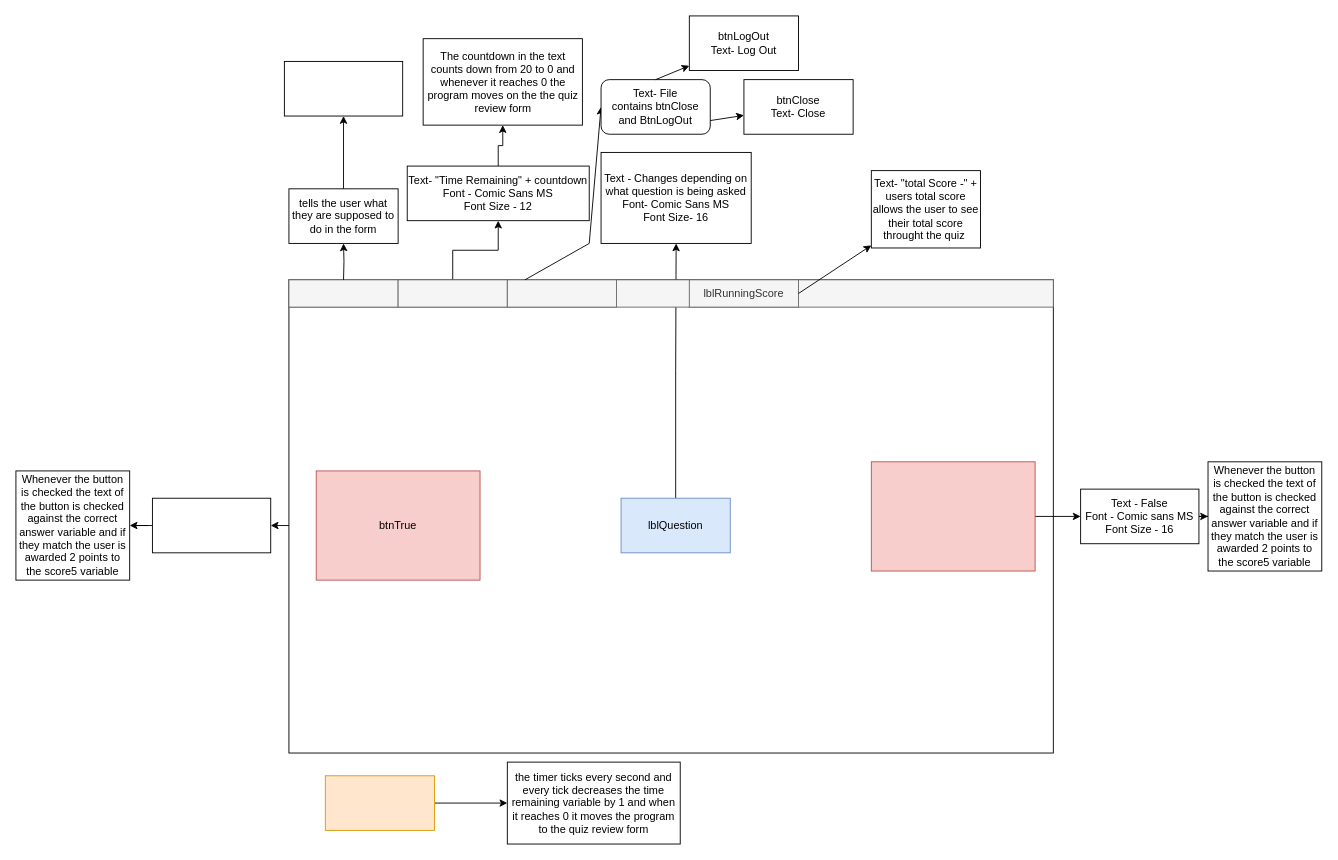
Some shapes in this 1338 by 860 pixel diagram are drawn without their labels. The shapes that lost their labels are listed below. From the top down, each one's box as (x1, y1, x2, y2) in pixels, then its label:
(283, 61, 403, 116): Text - Help Font - Comic Sans MS Font Size - 12
(288, 279, 398, 307): btnHelp
(397, 279, 507, 307): lblTimeRemaining
(506, 279, 617, 307): dpdFile
(152, 497, 271, 553): Text - True Font - Comic sans MS Font Size - 16
(870, 461, 1035, 571): btnFalse
(324, 775, 435, 830): tmrCountdown
